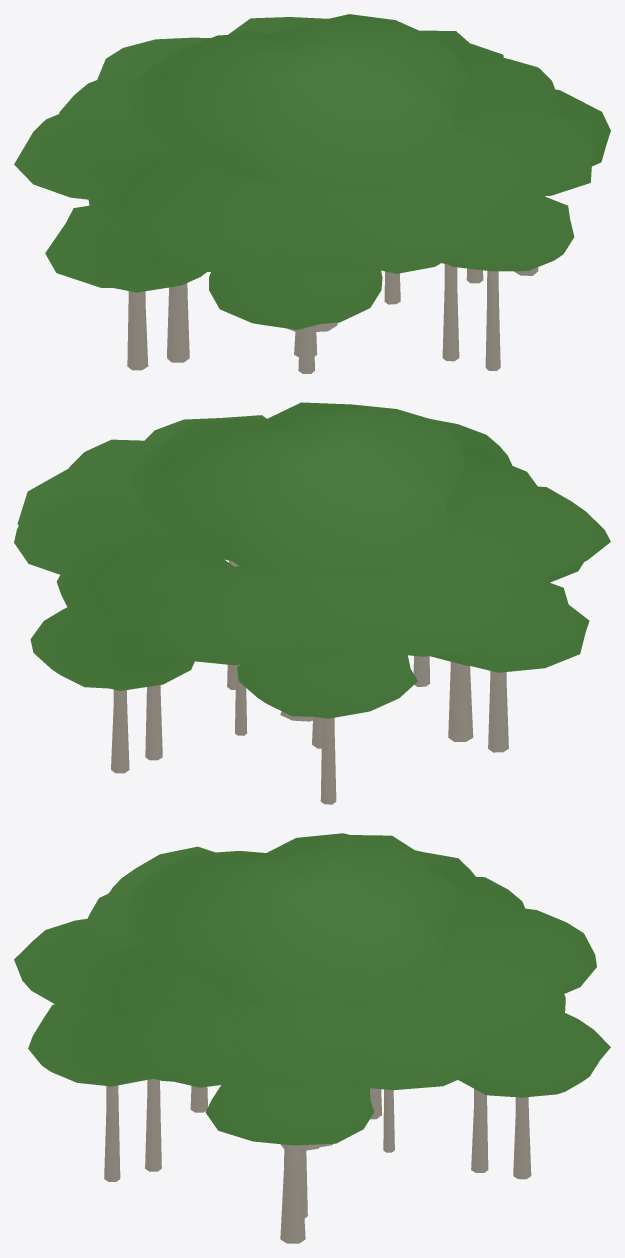
Rendered from Blender_Banyan_1.glb.
3 views of the same model, one above another, from view 1: azimuth 30°, elevation 25°; view 2: azimuth 150°, elevation 25°; view 3: azimuth 270°, elevation 25° (orthographic).
Parts seen in each view (by area): view 1: Blender_Banyan_1; view 2: Blender_Banyan_1; view 3: Blender_Banyan_1.
Boxes of the visible parts, x1,y1,x2,y2 form: Blender_Banyan_1: [14, 14, 610, 373]; Blender_Banyan_1: [14, 402, 610, 804]; Blender_Banyan_1: [14, 833, 610, 1243].
Size of the model in its own units: 35 by 16.23 by 33.23.
